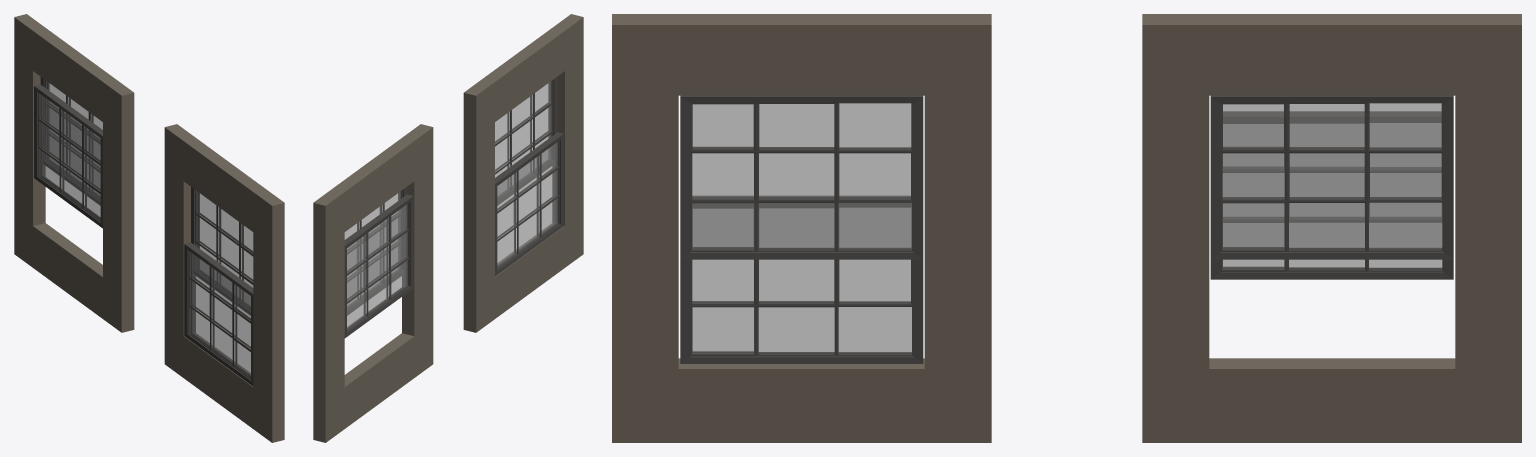
Rendered from Windows.fbx.
3 renders of one model, left to right at view 1: azimuth 30°, elevation 25°; view 2: azimuth 150°, elevation 25°; view 3: azimuth 270°, elevation 25°, orthographic. The views are drawn at different scales.
Visible parts, largest first — view 1: pCube8, pCube9; view 2: pCube8, pCube9; view 3: pCube8, pCube9.
Boxes of the visible parts, x1,y1,x2,y2 form: pCube8: (164, 124, 284, 442); pCube9: (14, 14, 134, 332); pCube8: (463, 14, 583, 332); pCube9: (313, 124, 433, 442); pCube8: (612, 14, 991, 442); pCube9: (1142, 14, 1521, 442).
Bounding box in the file's own units: 0.6481 × 10.8 × 21.31.
